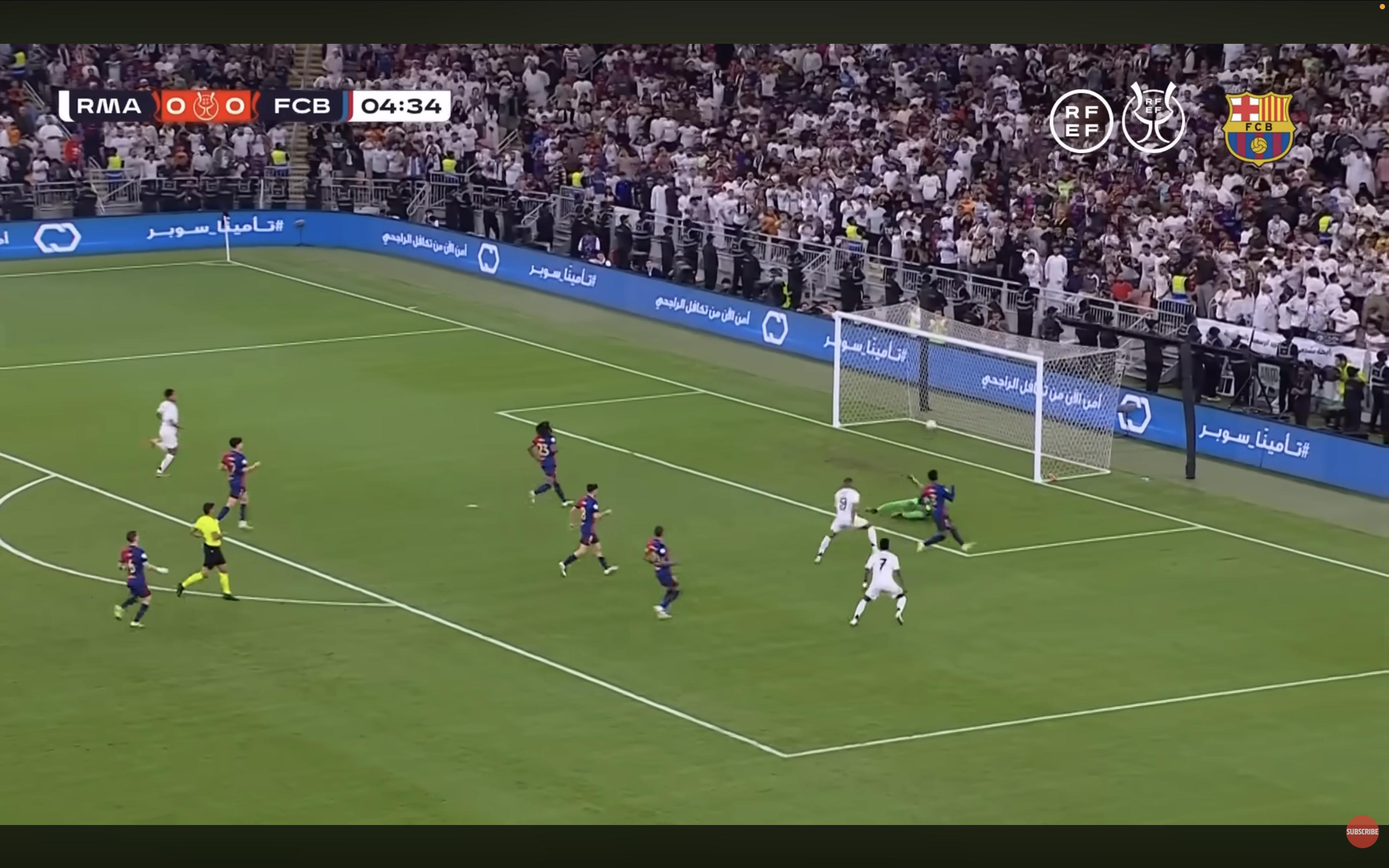ball: (924, 420, 938, 431)
goalkeeper: (866, 476, 930, 521)
player: (814, 478, 876, 563), (560, 483, 617, 575), (114, 531, 168, 627), (850, 538, 906, 626), (917, 470, 972, 551), (217, 438, 260, 530), (528, 421, 574, 507), (644, 526, 680, 619), (150, 389, 180, 476)
referee: (176, 502, 237, 600)
